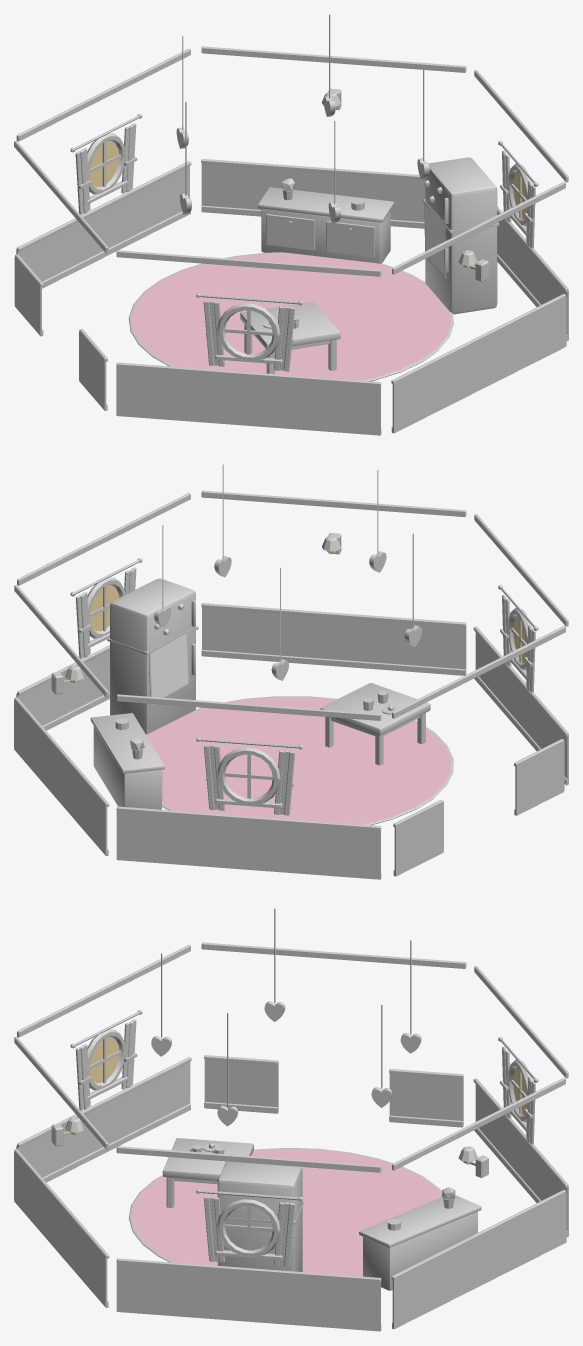
Rendered from zon_room_note.glb.
The picture shows the model from 3 angles, top to bottom: view 1: azimuth 30°, elevation 25°; view 2: azimuth 150°, elevation 25°; view 3: azimuth 270°, elevation 25°; orthographic projection.
Visible parts, largest first — view 1: SM_zon_room_note_kit_interior_x0_z0, SM_zon_room_note_room_rug_x0_z0, SM_zon_room_note_glow_vc_x0_z0, SCREEN_fur_fridge_note_note__0; view 2: SM_zon_room_note_kit_interior_x0_z0, SM_zon_room_note_room_rug_x0_z0, SCREEN_fur_fridge_note_note__0, SM_zon_room_note_glow_vc_x0_z0; view 3: SM_zon_room_note_kit_interior_x0_z0, SM_zon_room_note_room_rug_x0_z0, SM_zon_room_note_glow_vc_x0_z0.
Boxes of the visible parts, <box> form: SM_zon_room_note_kit_interior_x0_z0: <box>14,14,568,435</box>; SM_zon_room_note_room_rug_x0_z0: <box>131,252,450,380</box>; SM_zon_room_note_glow_vc_x0_z0: <box>89,141,526,268</box>; SCREEN_fur_fridge_note_note__0: <box>424,204,444,275</box>; SM_zon_room_note_kit_interior_x0_z0: <box>14,464,568,879</box>; SM_zon_room_note_room_rug_x0_z0: <box>147,697,450,824</box>; SCREEN_fur_fridge_note_note__0: <box>150,633,188,697</box>; SM_zon_room_note_glow_vc_x0_z0: <box>70,551,526,683</box>; SM_zon_room_note_kit_interior_x0_z0: <box>14,908,568,1331</box>; SM_zon_room_note_room_rug_x0_z0: <box>131,1148,441,1276</box>; SM_zon_room_note_glow_vc_x0_z0: <box>70,1037,526,1164</box>.
Size of the model in its own units: 9.42 by 4.99 by 9.83.
